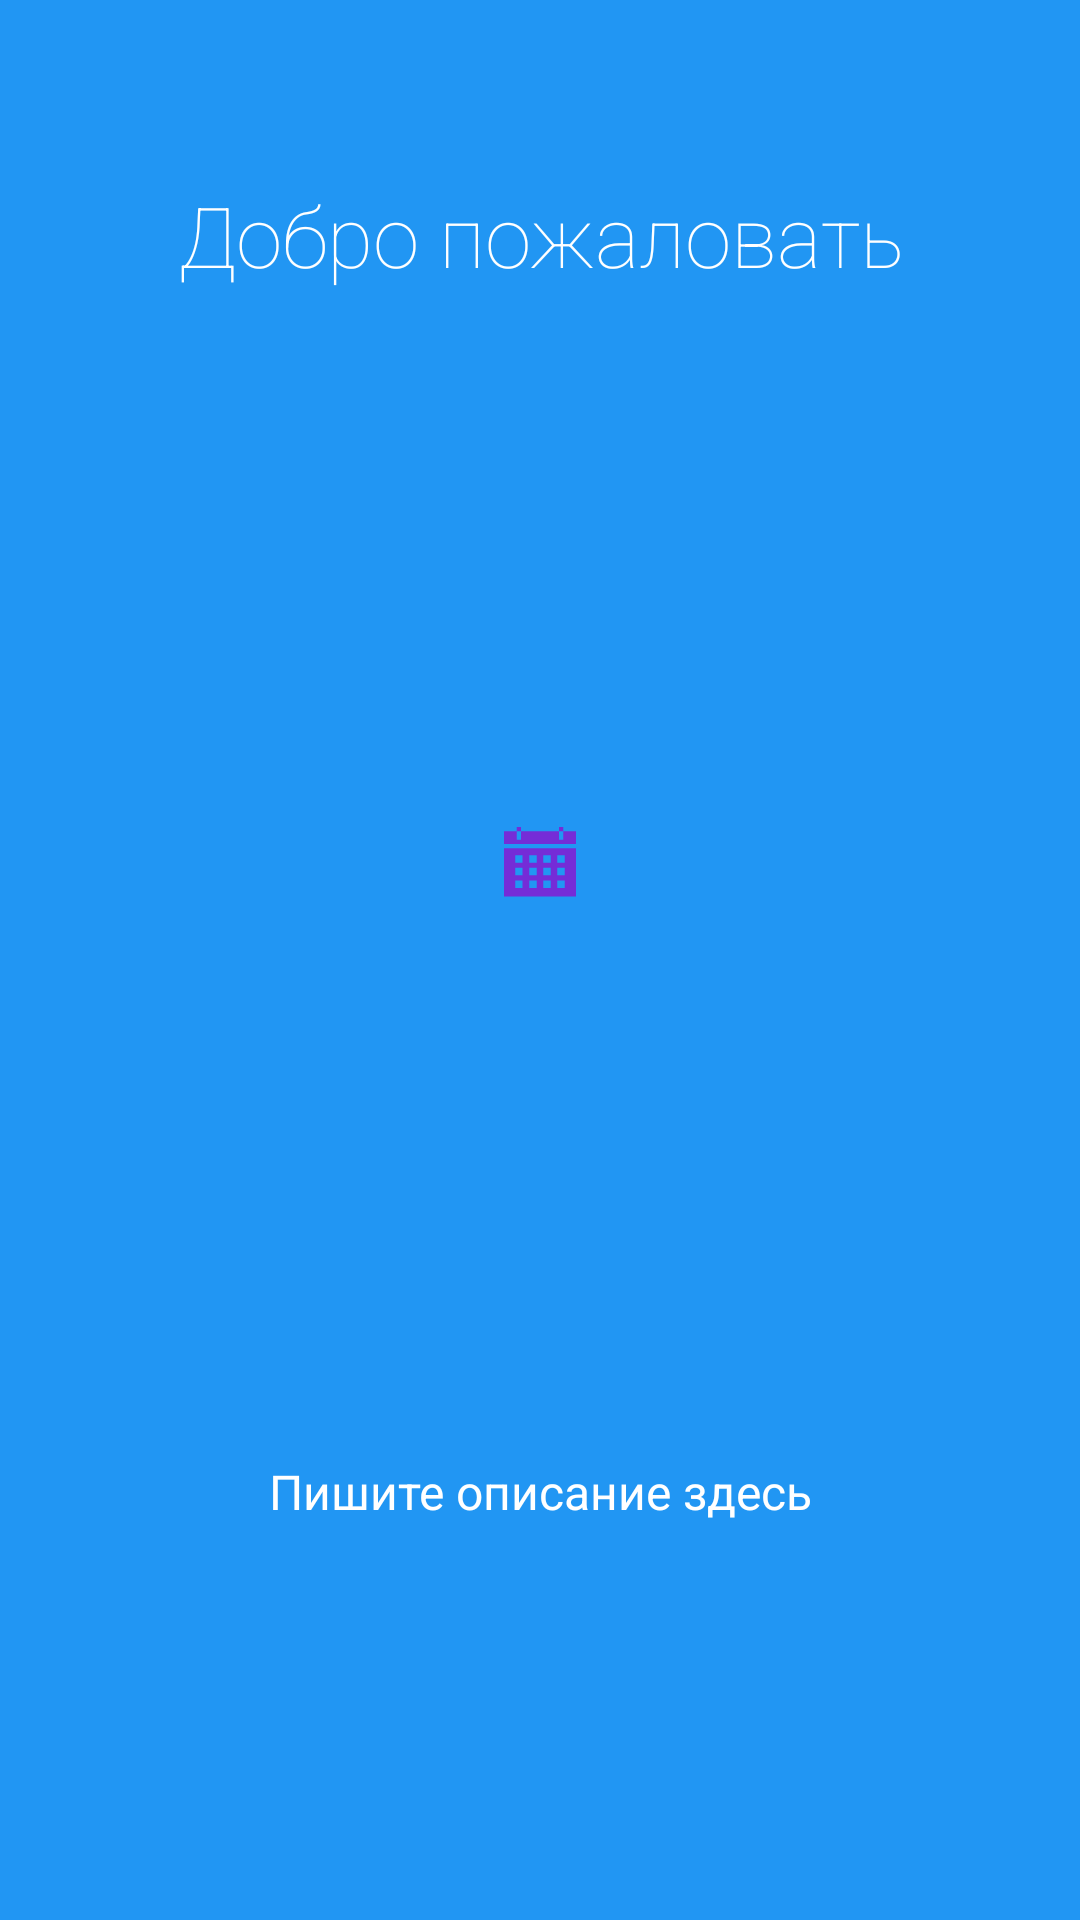

Point at icon controls on the screen. Image size 1080x1920, points as [x,y].
on schedule: [540,862]
